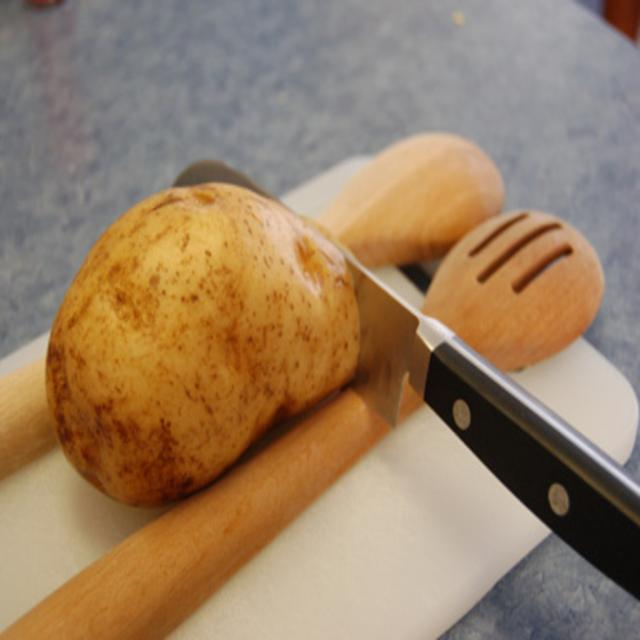Potato: (45, 176, 365, 496)
